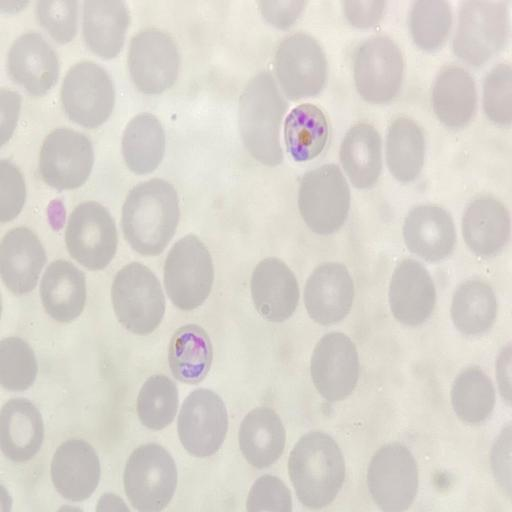Infected: (283, 103, 329, 161), (169, 326, 213, 382)
Uninfected: (236, 73, 289, 164), (122, 179, 183, 257), (287, 432, 344, 505), (162, 236, 216, 311), (111, 264, 166, 334), (58, 62, 115, 128), (63, 201, 119, 268), (121, 445, 177, 510), (297, 167, 351, 234), (272, 34, 328, 97), (309, 333, 360, 402), (38, 128, 95, 189), (452, 0, 506, 64), (127, 31, 182, 93), (176, 391, 228, 456), (353, 36, 403, 103), (387, 261, 437, 327), (7, 33, 60, 95), (366, 444, 417, 508), (248, 258, 298, 321), (302, 264, 355, 323), (50, 440, 101, 501), (39, 261, 88, 322), (1, 229, 47, 293), (402, 204, 455, 259), (460, 196, 509, 255), (120, 114, 168, 172), (80, 2, 130, 57), (432, 66, 476, 128), (338, 125, 383, 185), (0, 399, 45, 459), (238, 408, 286, 464), (449, 368, 495, 424), (449, 280, 496, 334), (135, 376, 180, 431), (384, 120, 424, 181), (408, 1, 453, 52), (0, 337, 39, 391), (37, 1, 80, 43)
